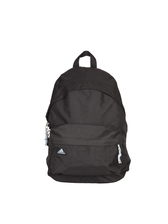bag: (37, 41, 136, 187)
